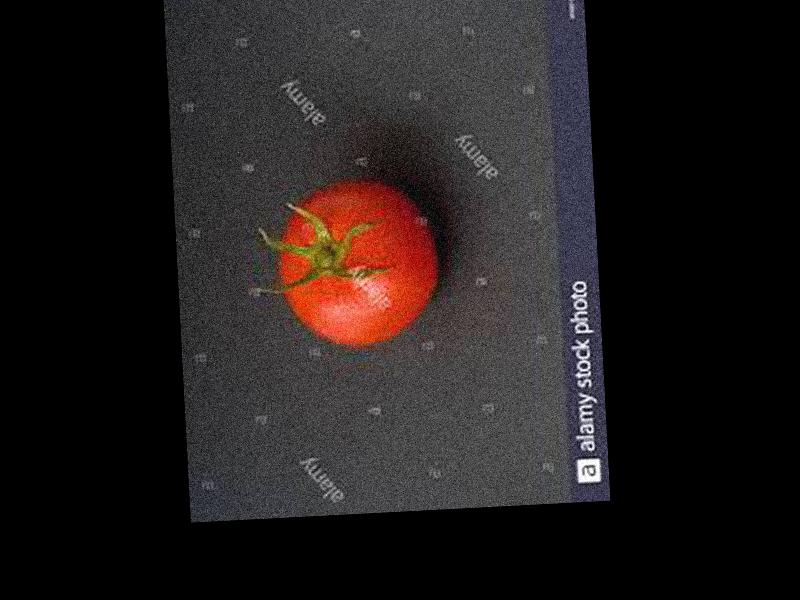Tomato: (274, 175, 435, 350)
